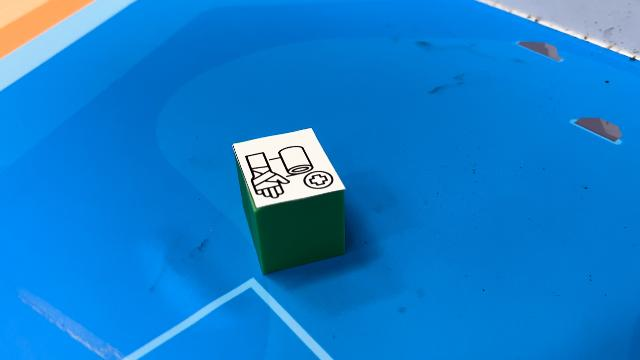bandage: (230, 126, 348, 274)
